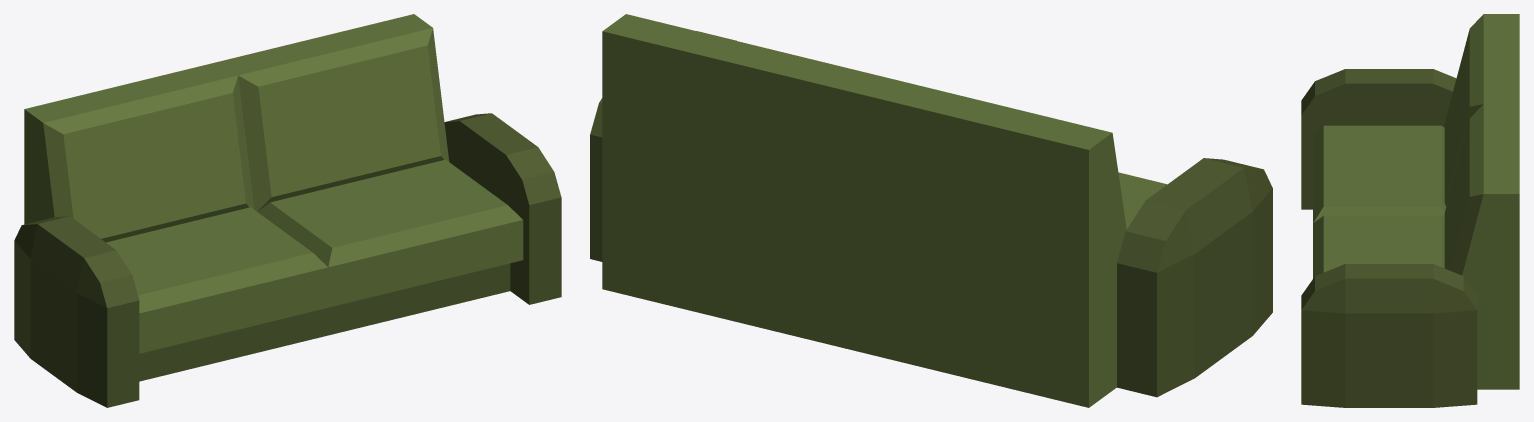
File: g_o_Sofa2_01.fbx
3 renders of one model, left to right at view 1: azimuth 30°, elevation 25°; view 2: azimuth 150°, elevation 25°; view 3: azimuth 270°, elevation 25°, orthographic. The views are drawn at different scales.
Parts seen in each view (by area): view 1: g_o_2SeatSofa_01; view 2: g_o_2SeatSofa_01; view 3: g_o_2SeatSofa_01.
Part boxes in pixels (x1,y1,x2,y2): g_o_2SeatSofa_01: (14, 14, 561, 407); g_o_2SeatSofa_01: (590, 14, 1272, 407); g_o_2SeatSofa_01: (1301, 14, 1519, 407).
Size of the model in its own units: 178 by 75.25 by 75.97.
